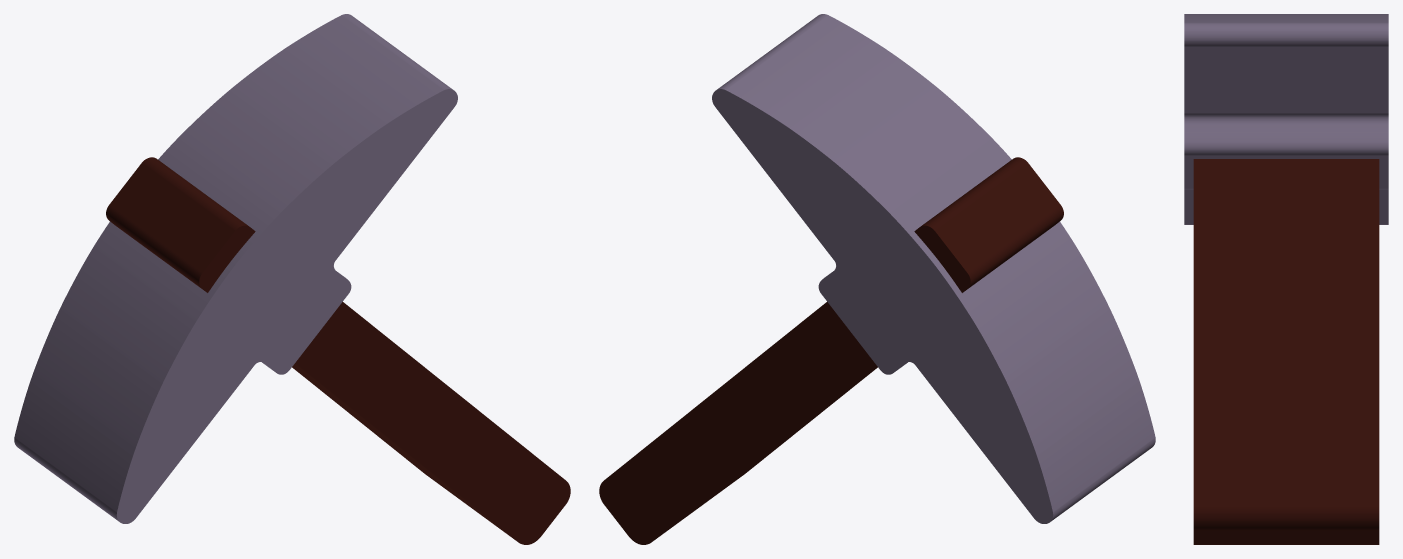
3 renders of one model, left to right at view 1: azimuth 30°, elevation 25°; view 2: azimuth 150°, elevation 25°; view 3: azimuth 270°, elevation 25°, orthographic.
Visible parts, largest first — view 1: U+26CF_layer01_obj00, U+26CF_layer00_obj00; view 2: U+26CF_layer01_obj00, U+26CF_layer00_obj00; view 3: U+26CF_layer00_obj00, U+26CF_layer01_obj00.
Part boxes in pixels (x1,y1,x2,y2): U+26CF_layer01_obj00: [14, 14, 457, 523]; U+26CF_layer00_obj00: [106, 157, 570, 544]; U+26CF_layer01_obj00: [712, 14, 1155, 523]; U+26CF_layer00_obj00: [599, 157, 1063, 544]; U+26CF_layer00_obj00: [1193, 159, 1379, 544]; U+26CF_layer01_obj00: [1184, 14, 1388, 224].
Size of the model in its own units: 0.5678 by 0.568 by 0.22.
